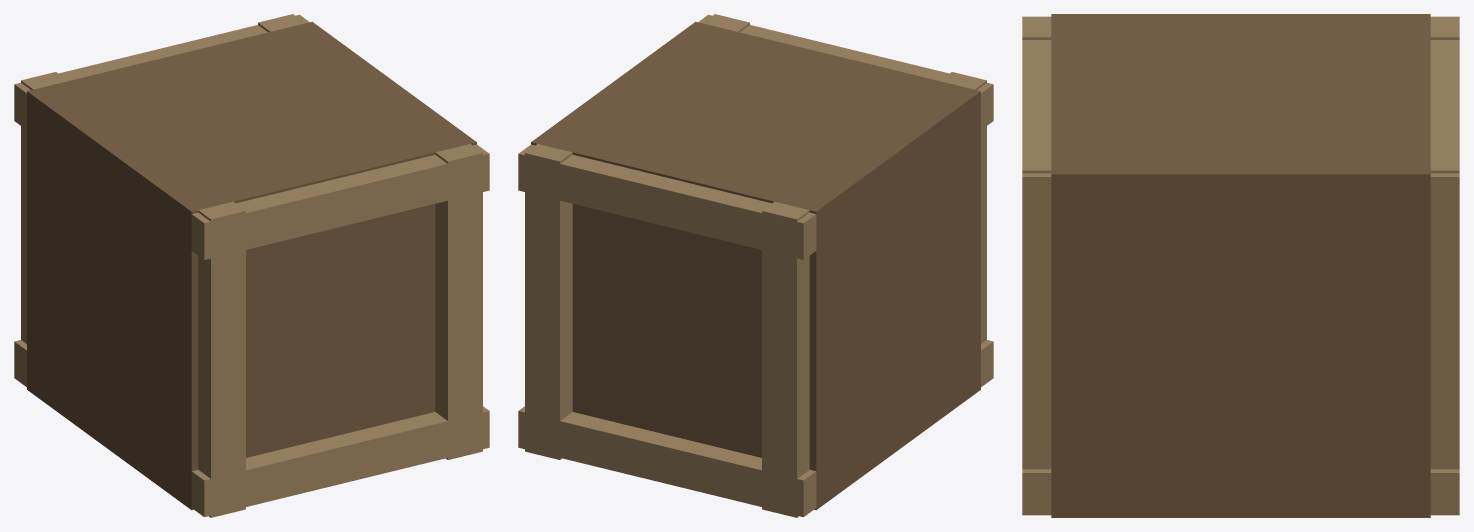
The model's file is TW_CRATE_SMALL_A_LOD0.glb.
3 views of the same model, side by side, from view 1: azimuth 30°, elevation 25°; view 2: azimuth 150°, elevation 25°; view 3: azimuth 270°, elevation 25° (orthographic). The views are drawn at different scales.
Parts seen in each view (by area): view 1: TW_CRATE_SMALL_A_LOD0; view 2: TW_CRATE_SMALL_A_LOD0; view 3: TW_CRATE_SMALL_A_LOD0.
Boxes of the visible parts, bbox=[...] form: TW_CRATE_SMALL_A_LOD0: bbox=[14, 14, 489, 517]; TW_CRATE_SMALL_A_LOD0: bbox=[518, 14, 993, 517]; TW_CRATE_SMALL_A_LOD0: bbox=[1022, 14, 1459, 517].
Bounding box in the file's own units: 0.65 × 0.65 × 0.75.
Materials: 1 (1 with a texture image).
